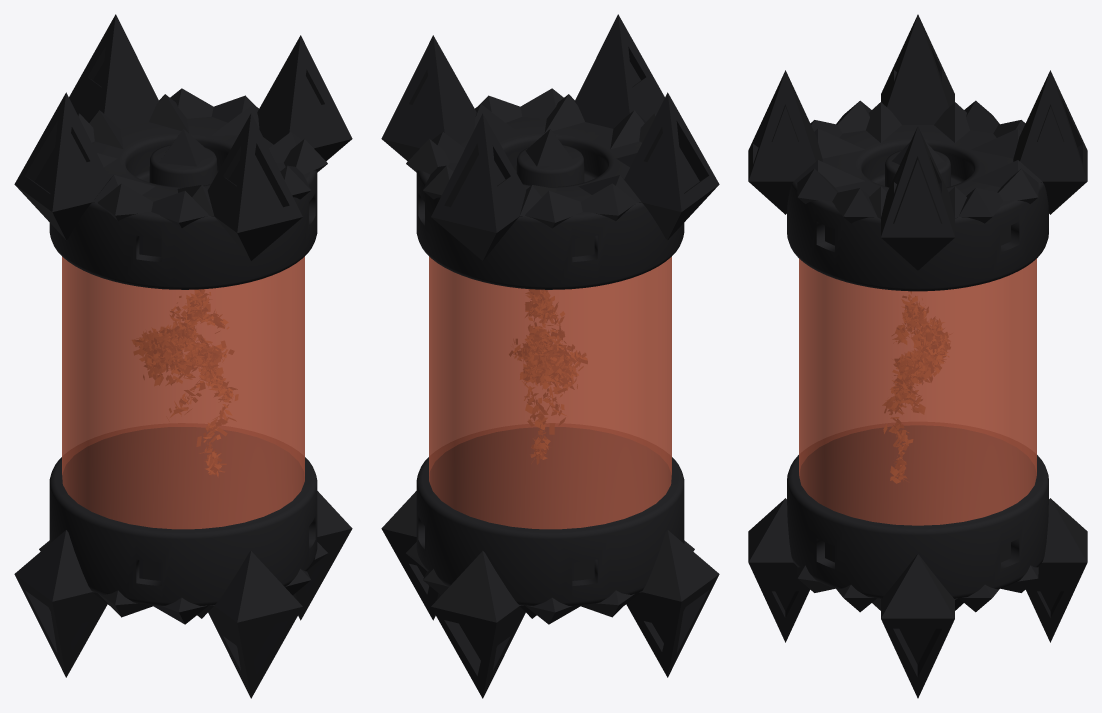
File: CONTAINER_Orange.fbx
The picture shows the model from 3 angles, left to right: view 1: azimuth 30°, elevation 25°; view 2: azimuth 150°, elevation 25°; view 3: azimuth 270°, elevation 25°; orthographic projection. The views are drawn at different scales.
Parts seen in each view (by area): view 1: TopAndBottom, Glass_Orange, IvyLeaf; view 2: TopAndBottom, Glass_Orange, IvyLeaf; view 3: TopAndBottom, Glass_Orange, IvyLeaf.
Part boxes in pixels (x1,y1,x2,y2): TopAndBottom: (14, 14, 352, 698); Glass_Orange: (62, 256, 304, 529); IvyLeaf: (132, 289, 238, 475); TopAndBottom: (381, 14, 719, 698); Glass_Orange: (429, 256, 671, 529); IvyLeaf: (509, 289, 587, 464); TopAndBottom: (748, 14, 1087, 698); Glass_Orange: (799, 258, 1036, 525); IvyLeaf: (883, 291, 950, 483).
Bounding box in the file's own units: 13.9 × 13.9 × 25.92.
